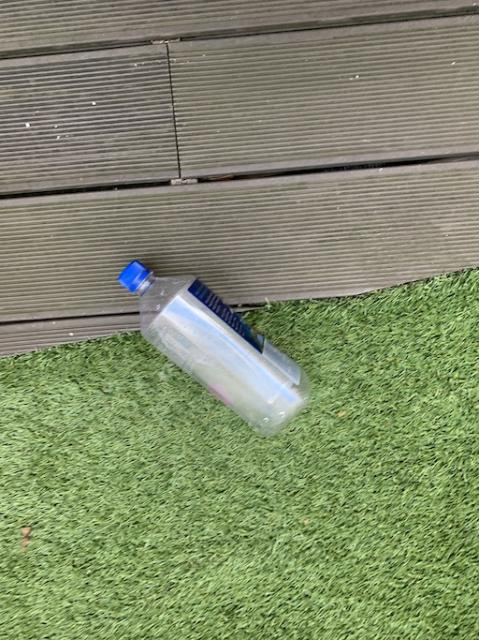plastic: (117, 260, 308, 434)
